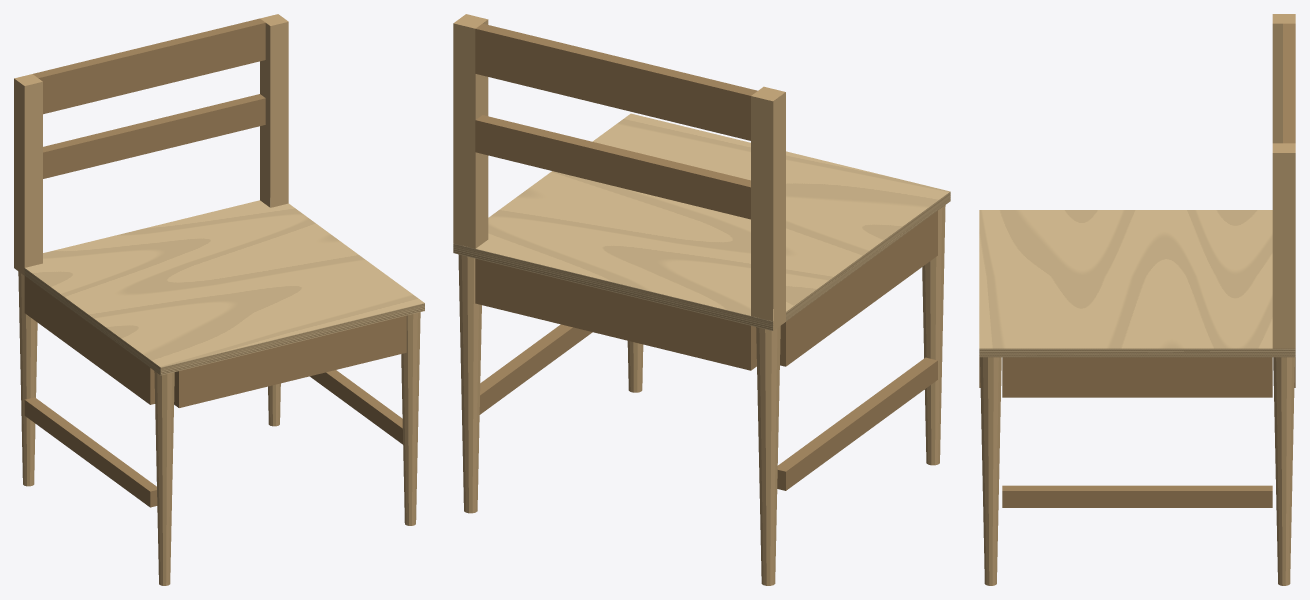
The model's file is SAB-YOK-std.glb.
3 renders of one model, left to right at view 1: azimuth 30°, elevation 25°; view 2: azimuth 150°, elevation 25°; view 3: azimuth 270°, elevation 25°, orthographic. The views are drawn at different scales.
Parts seen in each view (by area): view 1: seat:sheet:eyJtIjoicGx5Iiwic2lkZSI6ImZhY2UiLCJzZWVkIjo2LCJ2Z, back-top:pbr, rail-f:pbr, leg-bl:pbr, back-mid:pbr, leg-br:pbr, rail-l:pbr, leg-fl:pbr, stretcher-l:pbr, leg-fr:pbr, seat:sheet:eyJtIjoicGx5Iiwic2lkZSI6ImVkZ2UtbG9uZyIsInNlZWQiO, stretcher-r:pbr (+1 smaller); view 2: seat:sheet:eyJtIjoicGx5Iiwic2lkZSI6ImZhY2UiLCJzZWVkIjo2LCJ2Z, back-top:pbr, leg-bl:pbr, rail-b:pbr, leg-br:pbr, back-mid:pbr, rail-l:pbr, stretcher-l:pbr, leg-fl:pbr, seat:sheet:eyJtIjoicGx5Iiwic2lkZSI6ImVkZ2UtbG9uZyIsInNlZWQiO, stretcher-r:pbr, seat:sheet:eyJtIjoicGx5Iiwic2lkZSI6ImVkZ2UtZW5kIiwic2VlZCI6N (+1 smaller); view 3: seat:sheet:eyJtIjoicGx5Iiwic2lkZSI6ImZhY2UiLCJzZWVkIjo2LCJ2Z, rail-r:pbr, leg-br:pbr, stretcher-r:pbr, leg-fr:pbr, seat:sheet:eyJtIjoicGx5Iiwic2lkZSI6ImVkZ2UtZW5kIiwic2VlZCI6N, back-top:pbr, leg-bl:pbr.
Boxes of the visible parts, box(x1,y1,x2,y2) form: seat:sheet:eyJtIjoicGx5Iiwic2lkZSI6ImZhY2UiLCJzZWVkIjo2LCJ2Z: box(25, 198, 424, 367); back-top:pbr: box(33, 18, 265, 114); rail-f:pbr: box(174, 315, 406, 407); leg-bl:pbr: box(14, 74, 42, 486); back-mid:pbr: box(43, 94, 265, 178); leg-br:pbr: box(260, 14, 288, 426); rail-l:pbr: box(24, 276, 154, 404); leg-fl:pbr: box(154, 371, 174, 585); stretcher-l:pbr: box(24, 397, 157, 507); leg-fr:pbr: box(401, 312, 420, 525); seat:sheet:eyJtIjoicGx5Iiwic2lkZSI6ImVkZ2UtbG9uZyIsInNlZWQiO: box(160, 303, 424, 375); stretcher-r:pbr: box(310, 370, 402, 444); seat:sheet:eyJtIjoicGx5Iiwic2lkZSI6ImZhY2UiLCJzZWVkIjo2LCJ2Z: box(476, 113, 950, 320); back-top:pbr: box(475, 23, 757, 140); leg-bl:pbr: box(751, 86, 785, 585); rail-b:pbr: box(475, 258, 756, 370); leg-br:pbr: box(453, 14, 488, 513); back-mid:pbr: box(475, 115, 750, 219); rail-l:pbr: box(780, 210, 937, 366); stretcher-l:pbr: box(777, 357, 937, 490); leg-fl:pbr: box(922, 205, 945, 465); seat:sheet:eyJtIjoicGx5Iiwic2lkZSI6ImVkZ2UtbG9uZyIsInNlZWQiO: box(453, 243, 772, 330); stretcher-r:pbr: box(479, 324, 592, 414); seat:sheet:eyJtIjoicGx5Iiwic2lkZSI6ImVkZ2UtZW5kIiwic2VlZCI6N: box(773, 192, 950, 330); seat:sheet:eyJtIjoicGx5Iiwic2lkZSI6ImZhY2UiLCJzZWVkIjo2LCJ2Z: box(979, 210, 1272, 348); rail-r:pbr: box(1002, 357, 1272, 397); leg-br:pbr: box(1272, 143, 1295, 585); stretcher-r:pbr: box(1002, 485, 1272, 507); leg-fr:pbr: box(980, 357, 1001, 585); seat:sheet:eyJtIjoicGx5Iiwic2lkZSI6ImVkZ2UtZW5kIiwic2VlZCI6N: box(979, 348, 1295, 357); back-top:pbr: box(1283, 23, 1295, 143); leg-bl:pbr: box(1272, 14, 1295, 143).
Bounding box in the file's own units: 0.5201 × 0.76 × 0.5.
Materials: 15 (3 with a texture image).
